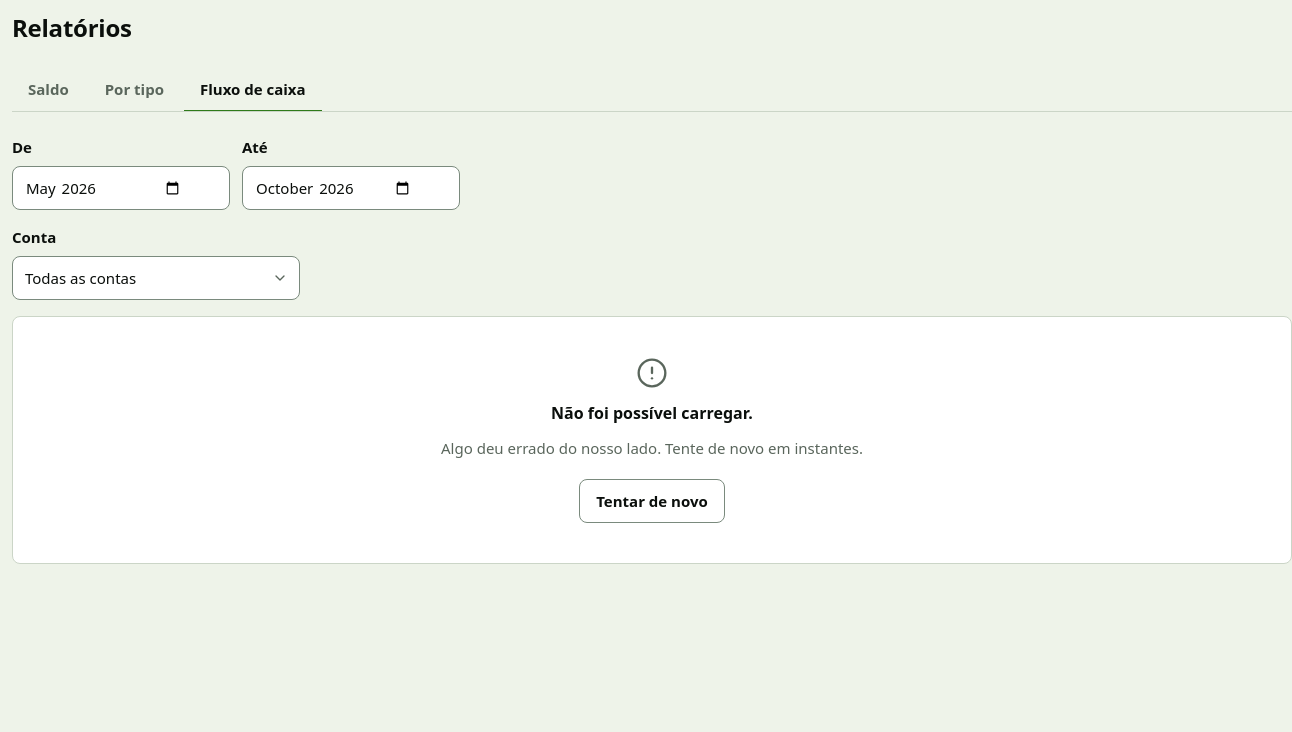
Scenario: ReportsPage (spec 0015) › shows the catalog error with a retry when a report fails
Expected: the message shows "Não foi possível carregar.", [551, 402, 753, 424]
Click the button "Tentar de novo": (652, 501) [579, 479, 725, 523]
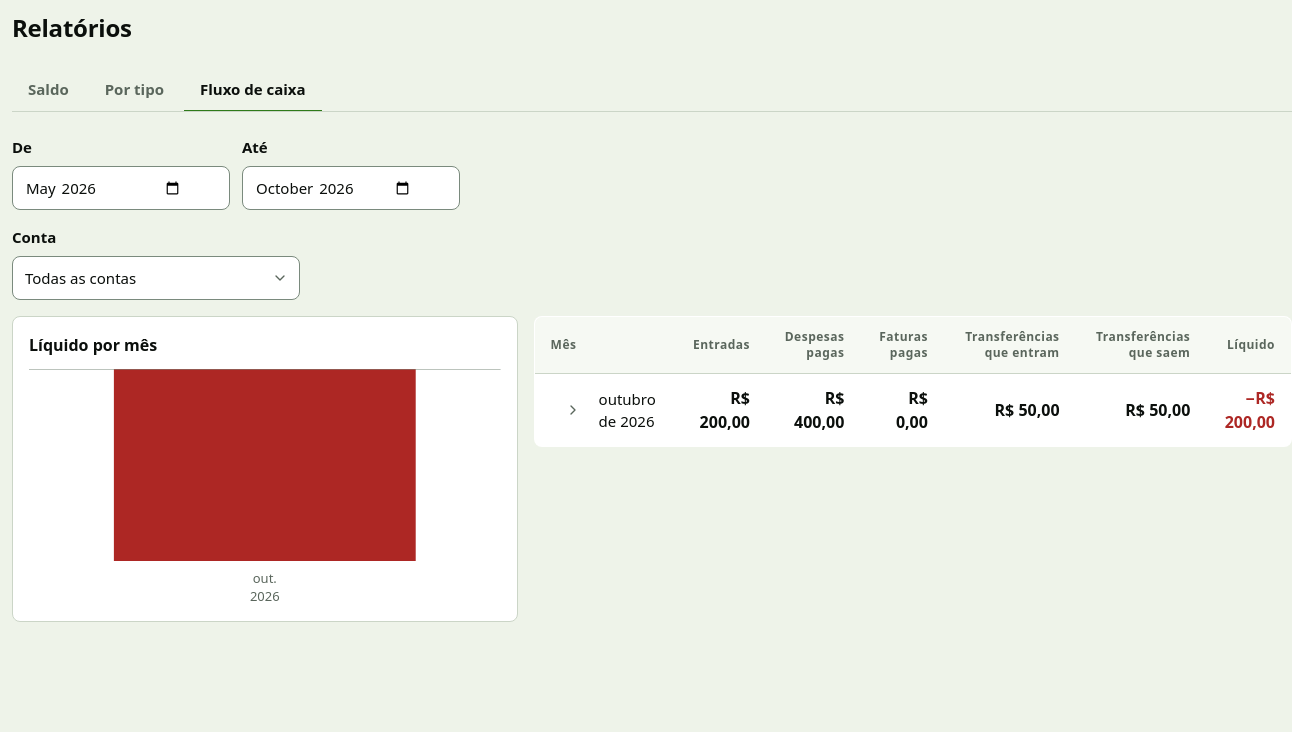
Expected: the table is shown, [534, 316, 1291, 447]
